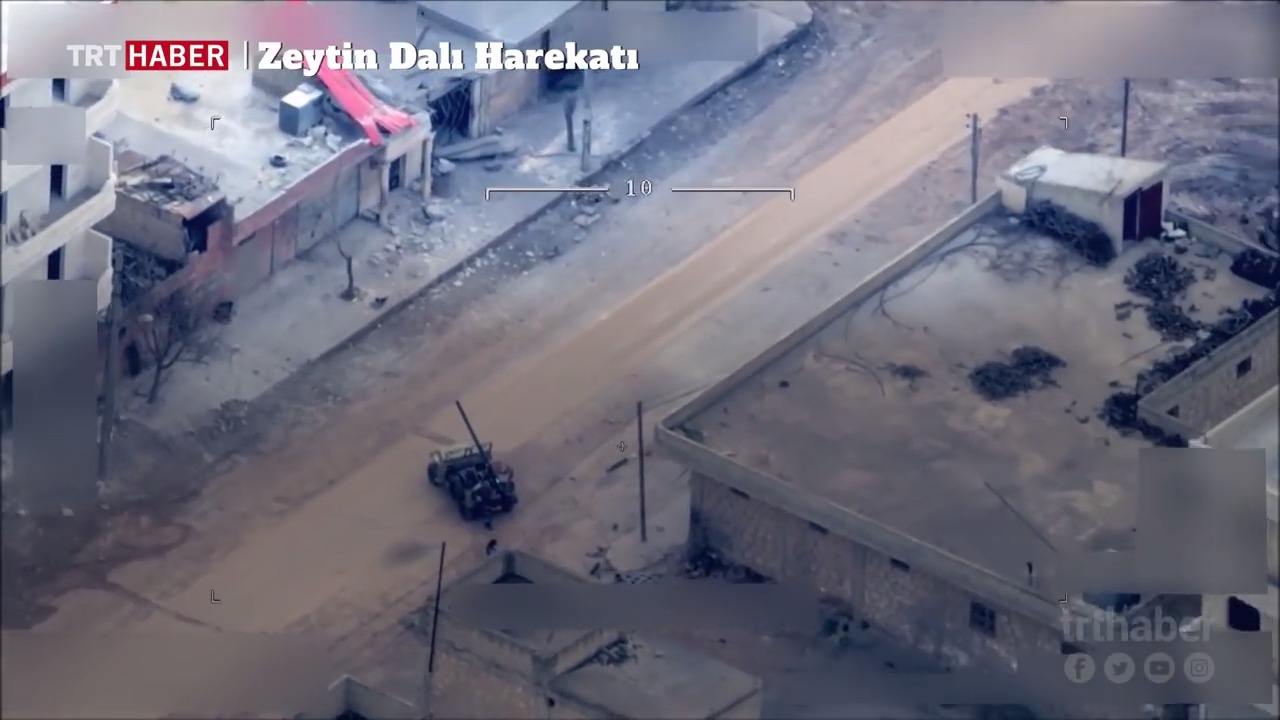arac: (423, 392, 528, 525)
